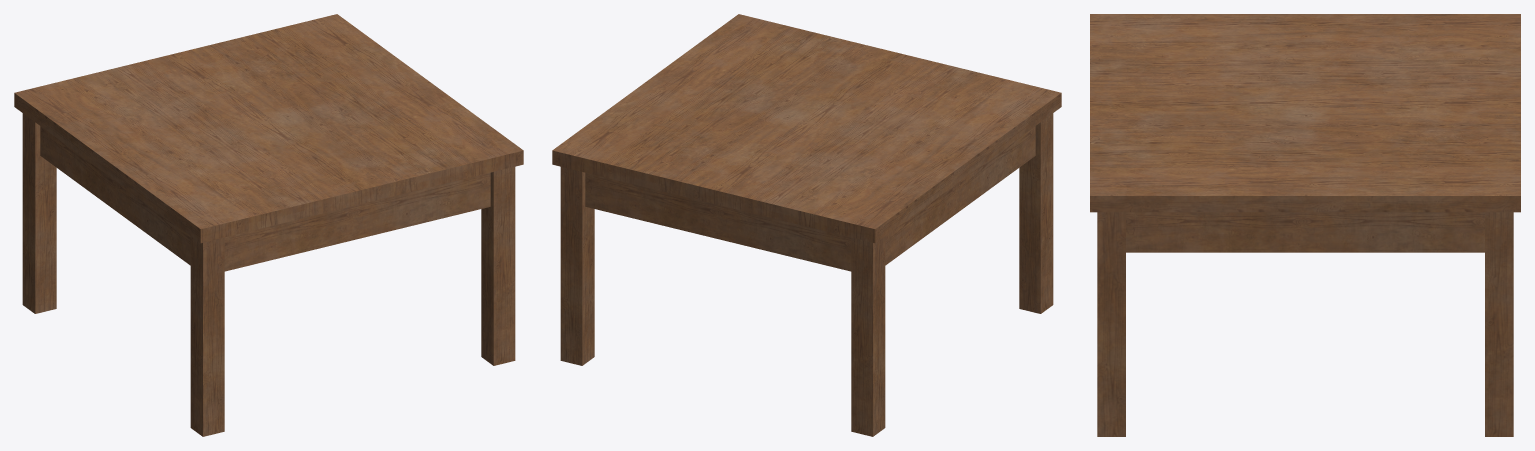
The model's file is mt_prop_zhuozi01.FBX.
3 renders of one model, left to right at view 1: azimuth 30°, elevation 25°; view 2: azimuth 150°, elevation 25°; view 3: azimuth 270°, elevation 25°, orthographic. The views are drawn at different scales.
Parts seen in each view (by area): view 1: mt_prop_zhuozi01; view 2: mt_prop_zhuozi01; view 3: mt_prop_zhuozi01.
Boxes of the visible parts, x1,y1,x2,y2 form: mt_prop_zhuozi01: (14, 14, 523, 436); mt_prop_zhuozi01: (552, 14, 1061, 436); mt_prop_zhuozi01: (1090, 14, 1520, 436).
Bounding box in the file's own units: 120 × 75 × 120.
